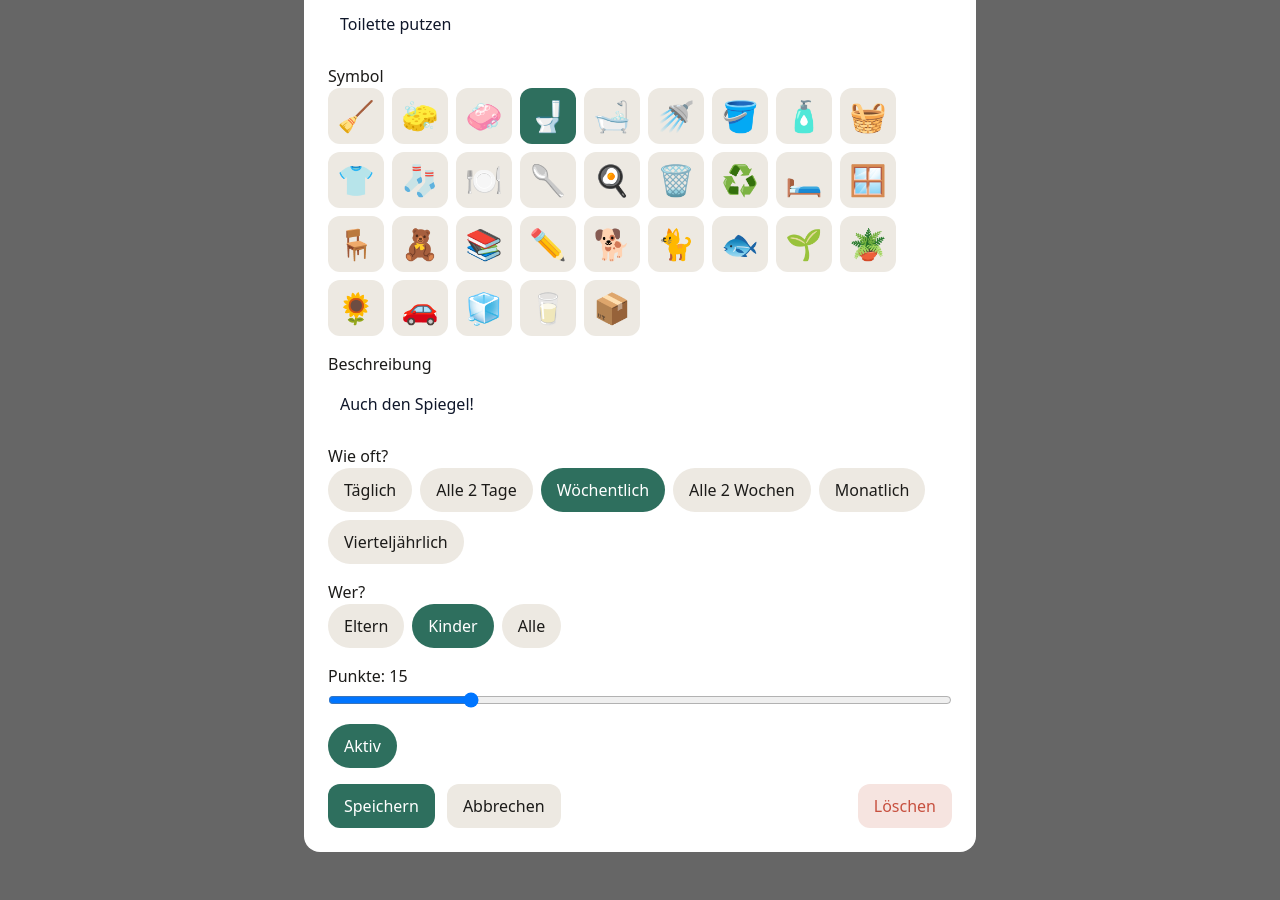
Scenario: ChoreDialog — Bearbeiten › nimmt die Loeschabsicht zurueck
The image size is (1280, 900).
(page scrolled)
Click the button "Löschen". click: (905, 806)
box: [858,784,952,828]
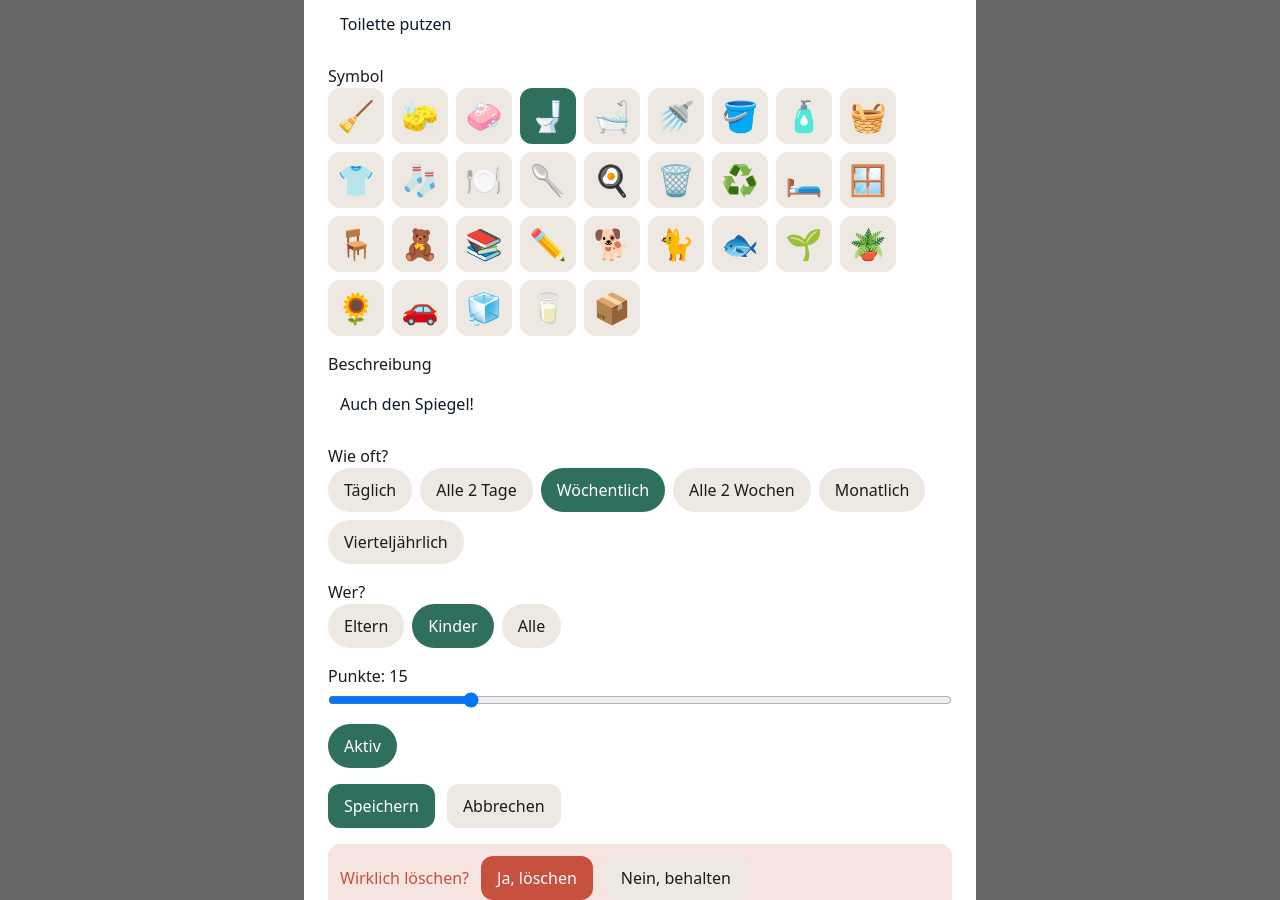
Click the button "Nein, behalten". click: (676, 878)
box: [605,856,747,899]
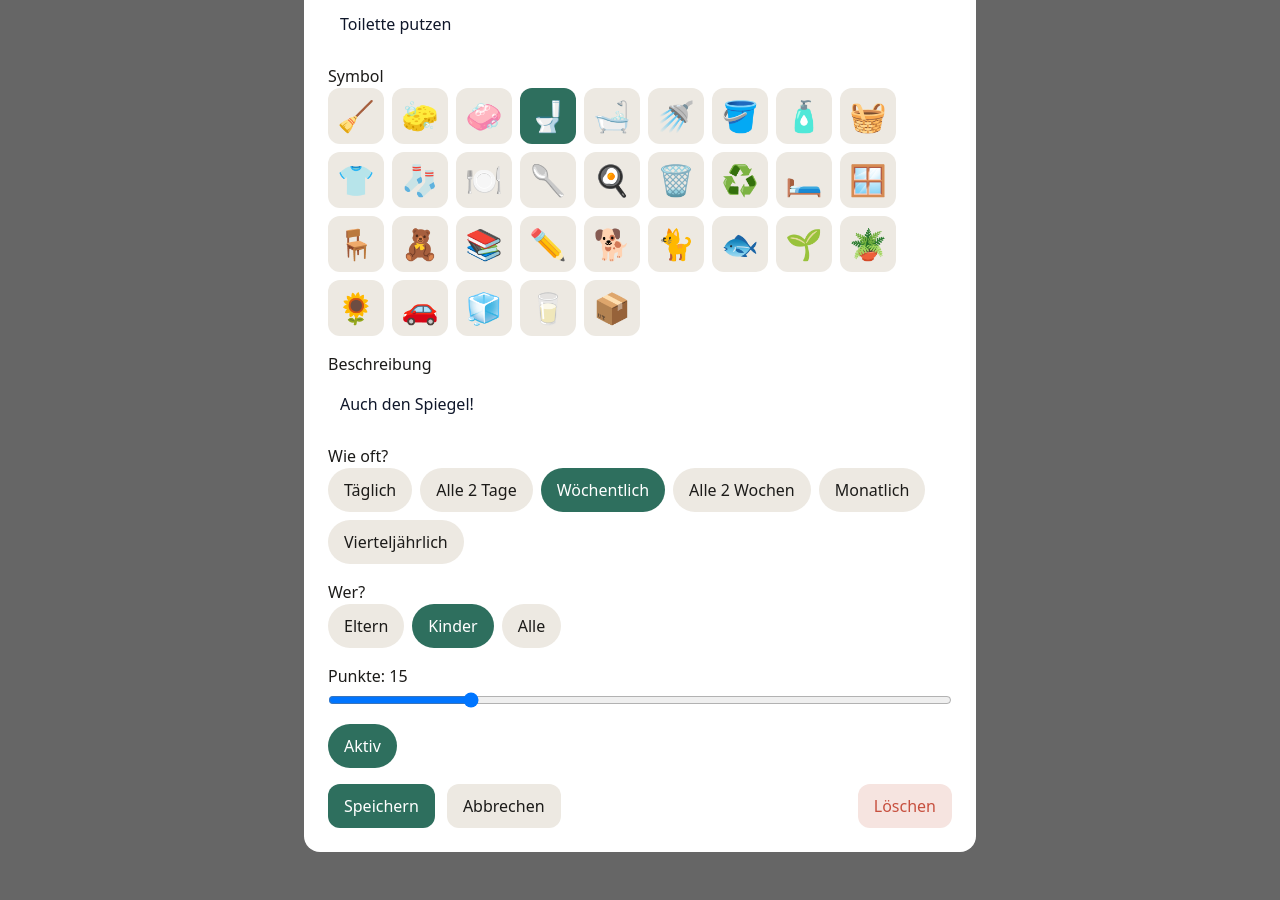
Result: the text "Wirklich löschen?" is gone
